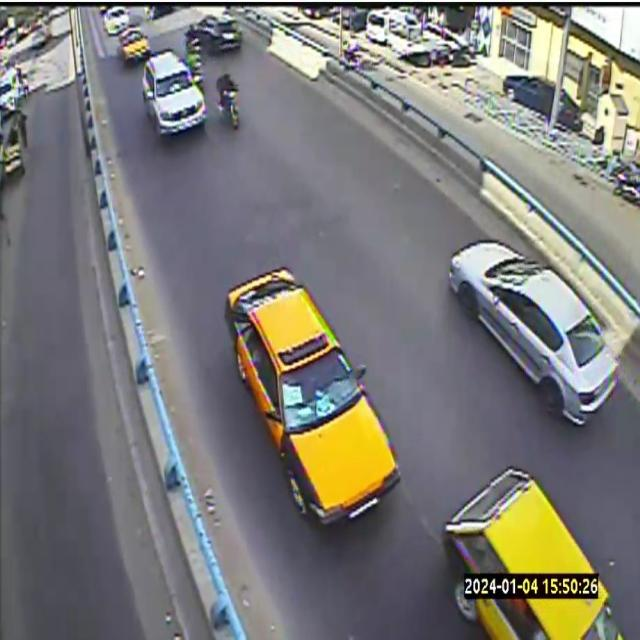car: (225, 268, 399, 522), (442, 467, 623, 639), (449, 240, 616, 423), (143, 50, 207, 134), (185, 13, 242, 55), (118, 27, 150, 64), (103, 6, 129, 35)
